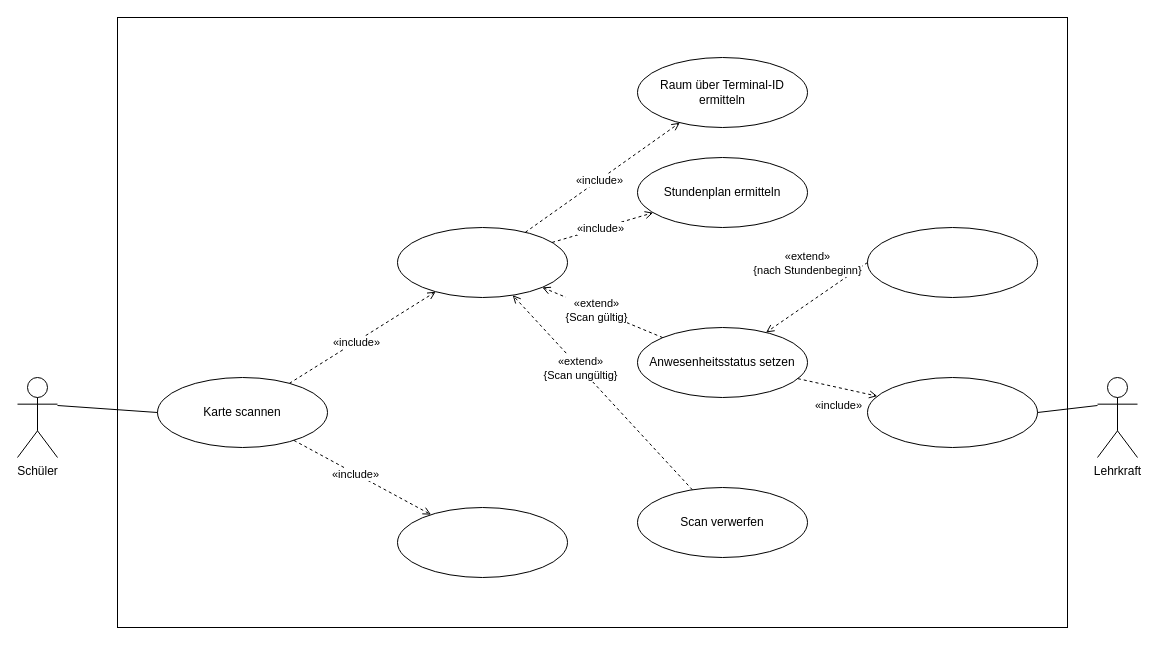
Some shapes in this 1158 by 645 pixel diagram are drawn without their labels. Each missing label, with the centre of its shape:
"Live-Ansicht aktualisieren" goes at (952,412).
"Rückmeldung am Terminal anzeigen" goes at (482,542).
"Scan prüfen" goes at (482,262).
"Verspätung berechnen" goes at (952,262).
